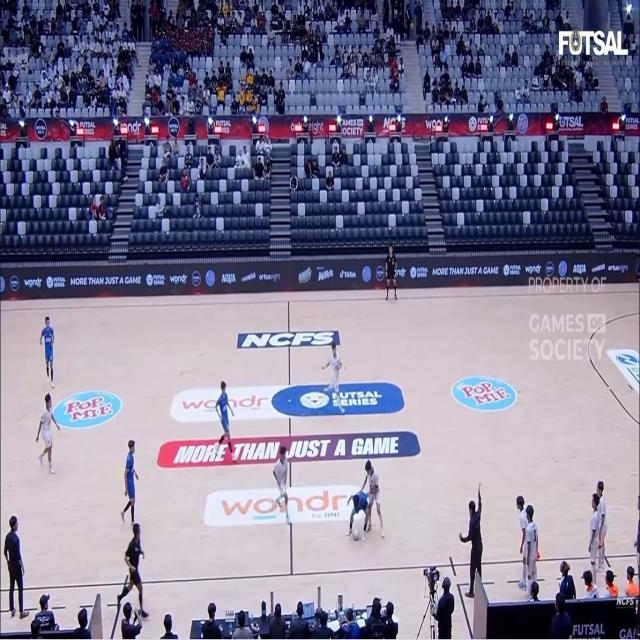referee: (118, 524, 148, 618), (386, 245, 397, 299)
